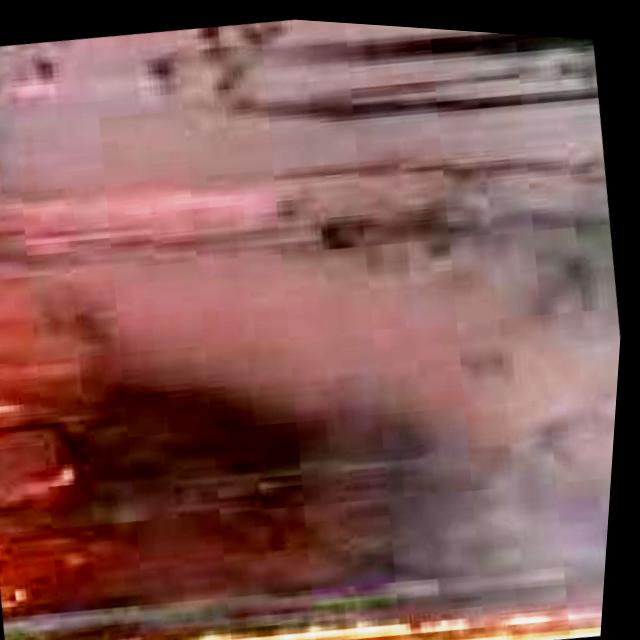fire: (10, 528, 612, 640)
